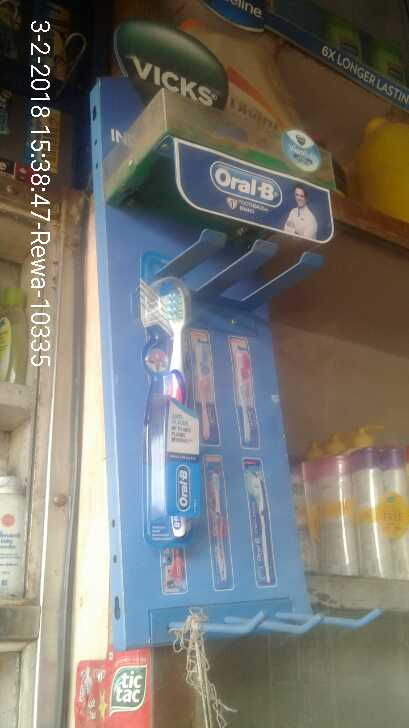oralb: (150, 270, 206, 544)
